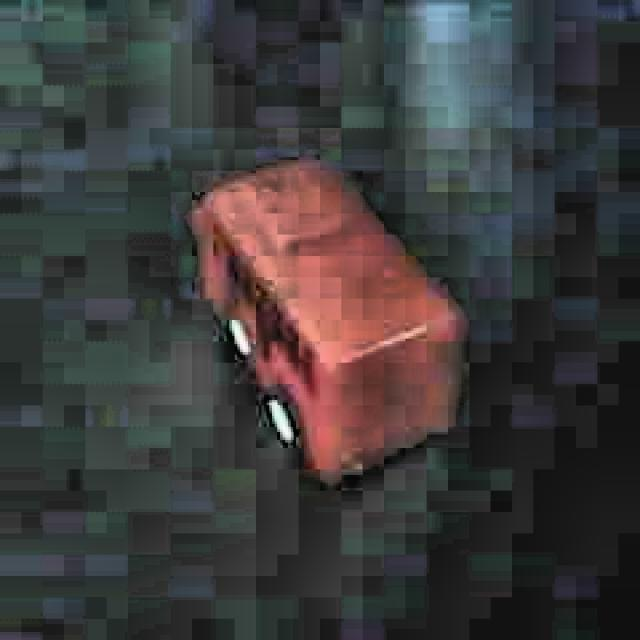bus: (187, 152, 462, 485)
